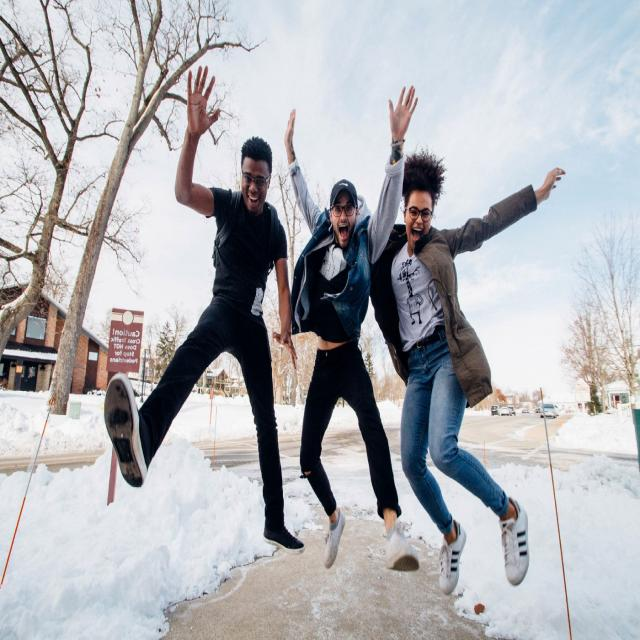adult: (101, 64, 299, 553), (384, 159, 567, 596), (284, 82, 418, 568)
